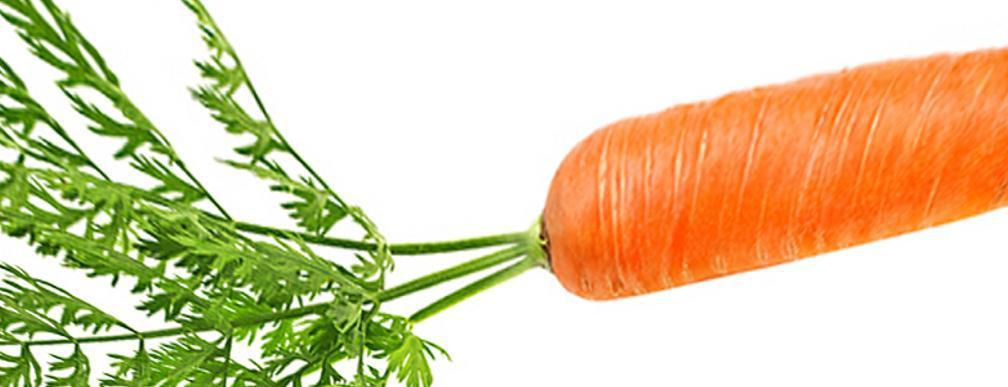carrot: (261, 52, 1008, 387)
